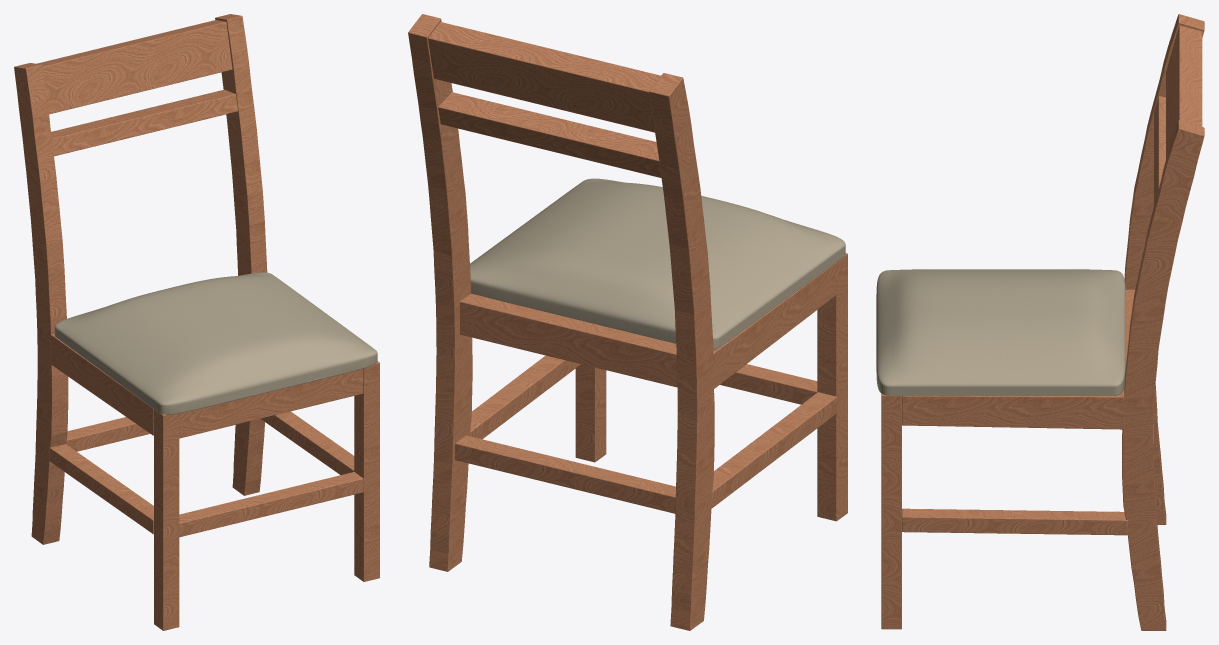
Rendered from chair 4.obj.
The picture shows the model from 3 angles, left to right: view 1: azimuth 30°, elevation 25°; view 2: azimuth 150°, elevation 25°; view 3: azimuth 270°, elevation 25°; orthographic projection. The views are drawn at different scales.
Visible parts, largest first — view 1: Mesh15 chair4_1 Group1 Model, Mesh14 chair1_1 Group1 Model, Mesh2 chair1_1 Group1 Model, Mesh13 chair1_1 Group1 Model, Mesh12 chair1_1 Group1 Model, Mesh11 chair1_1 Group1 Model, Mesh1 chair1_1 Group1 Model, Mesh5 chair1_1 Group1 Model, Mesh3 chair1_1 Group1 Model, Mesh10 chair1_1 Group1 Model, Mesh8 chair1_1 Group1 Model, Mesh7 chair1_1 Group1 Model (+1 smaller); view 2: Mesh15 chair4_1 Group1 Model, Mesh14 chair1_1 Group1 Model, Mesh13 chair1_1 Group1 Model, Mesh2 chair1_1 Group1 Model, Mesh6 chair1_1 Group1 Model, Mesh1 chair1_1 Group1 Model, Mesh12 chair1_1 Group1 Model, Mesh4 chair1_1 Group1 Model, Mesh10 chair1_1 Group1 Model, Mesh8 chair1_1 Group1 Model, Mesh7 chair1_1 Group1 Model, Mesh11 chair1_1 Group1 Model (+1 smaller); view 3: Mesh15 chair4_1 Group1 Model, Mesh13 chair1_1 Group1 Model, Mesh9 chair1_1 Group1 Model, Mesh7 chair1_1 Group1 Model, Mesh11 chair1_1 Group1 Model, Mesh14 chair1_1 Group1 Model, Mesh2 chair1_1 Group1 Model, Mesh1 chair1_1 Group1 Model.
Boxes of the visible parts, <box> form: Mesh15 chair4_1 Group1 Model: <box>54,272,377,414</box>; Mesh14 chair1_1 Group1 Model: <box>14,63,68,544</box>; Mesh2 chair1_1 Group1 Model: <box>36,20,232,114</box>; Mesh13 chair1_1 Group1 Model: <box>215,14,267,495</box>; Mesh12 chair1_1 Group1 Model: <box>154,409,179,630</box>; Mesh11 chair1_1 Group1 Model: <box>354,361,379,581</box>; Mesh1 chair1_1 Group1 Model: <box>51,89,237,156</box>; Mesh5 chair1_1 Group1 Model: <box>179,369,363,438</box>; Mesh3 chair1_1 Group1 Model: <box>179,472,363,537</box>; Mesh10 chair1_1 Group1 Model: <box>50,333,153,435</box>; Mesh8 chair1_1 Group1 Model: <box>49,444,153,534</box>; Mesh7 chair1_1 Group1 Model: <box>260,411,354,474</box>; Mesh15 chair4_1 Group1 Model: <box>470,178,845,349</box>; Mesh14 chair1_1 Group1 Model: <box>649,73,714,630</box>; Mesh13 chair1_1 Group1 Model: <box>408,14,472,571</box>; Mesh2 chair1_1 Group1 Model: <box>428,22,660,132</box>; Mesh6 chair1_1 Group1 Model: <box>460,293,677,387</box>; Mesh1 chair1_1 Group1 Model: <box>438,92,661,177</box>; Mesh12 chair1_1 Group1 Model: <box>817,253,847,521</box>; Mesh4 chair1_1 Group1 Model: <box>455,435,675,513</box>; Mesh10 chair1_1 Group1 Model: <box>713,262,836,388</box>; Mesh8 chair1_1 Group1 Model: <box>711,392,837,508</box>; Mesh7 chair1_1 Group1 Model: <box>470,355,580,439</box>; Mesh11 chair1_1 Group1 Model: <box>575,364,606,462</box>; Mesh15 chair4_1 Group1 Model: <box>876,269,1125,395</box>; Mesh13 chair1_1 Group1 Model: <box>1122,120,1204,630</box>; Mesh9 chair1_1 Group1 Model: <box>902,389,1124,429</box>; Mesh7 chair1_1 Group1 Model: <box>902,508,1127,535</box>; Mesh11 chair1_1 Group1 Model: <box>881,394,901,629</box>; Mesh14 chair1_1 Group1 Model: <box>1124,14,1204,524</box>; Mesh2 chair1_1 Group1 Model: <box>1166,25,1202,158</box>; Mesh1 chair1_1 Group1 Model: <box>1154,96,1165,205</box>.
Size of the model in its own units: 98.11 by 200 by 118.
Materials: 2 (2 with a texture image).
